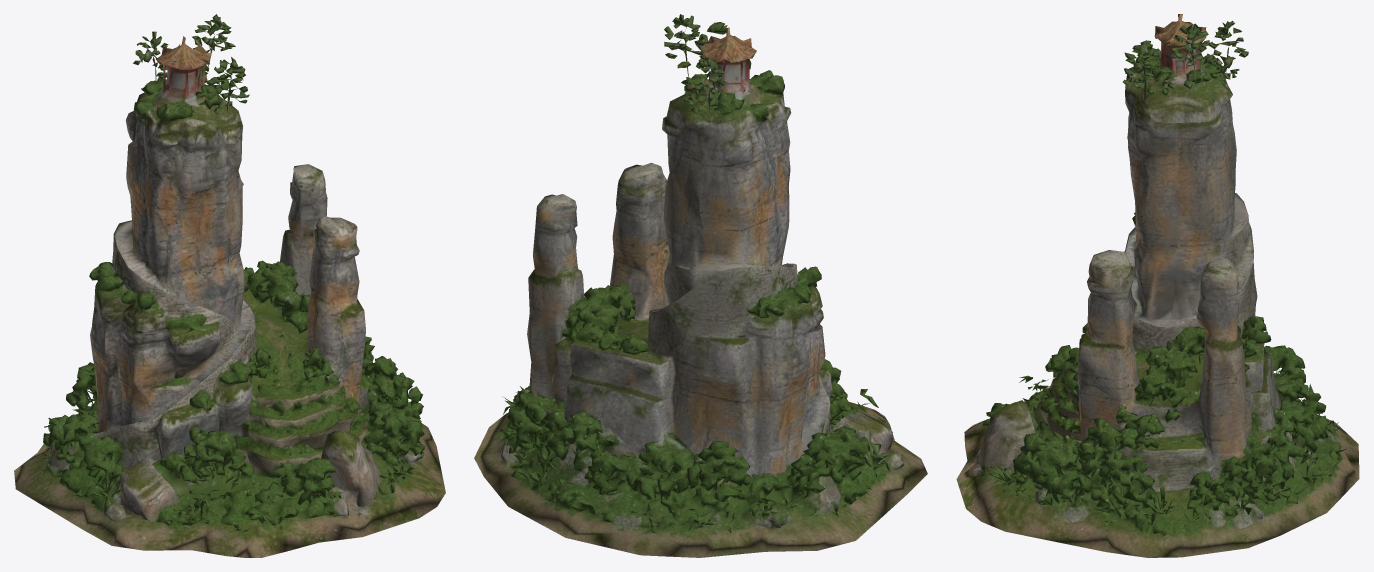
Rendered from av_pagoda_far.glb.
The picture shows the model from 3 angles, left to right: view 1: azimuth 30°, elevation 25°; view 2: azimuth 150°, elevation 25°; view 3: azimuth 270°, elevation 25°; orthographic projection. The views are drawn at different scales.
Parts seen in each view (by area): view 1: av_pagoda; view 2: av_pagoda; view 3: av_pagoda.
Boxes of the visible parts, x1,y1,x2,y2 form: av_pagoda: [14, 14, 445, 557]; av_pagoda: [474, 14, 927, 557]; av_pagoda: [956, 14, 1359, 557].
Size of the model in its own units: 1.67 by 1.9 by 1.57.
Materials: 1 (1 with a texture image).
